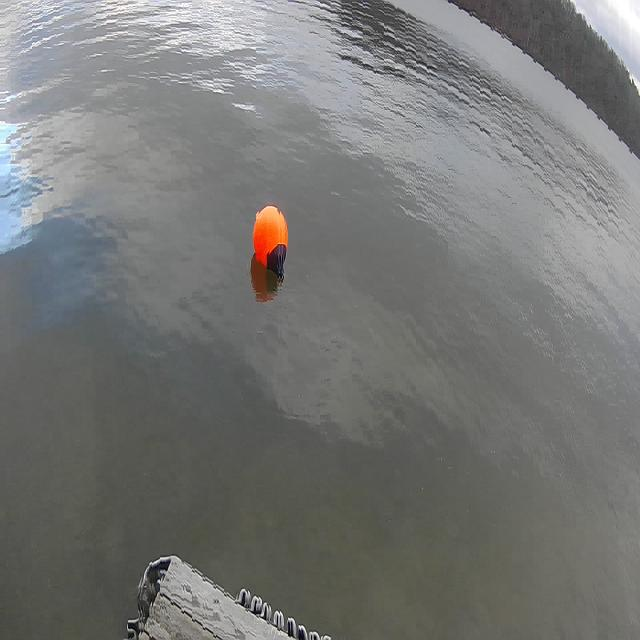Buoy: (247, 193, 292, 280)
